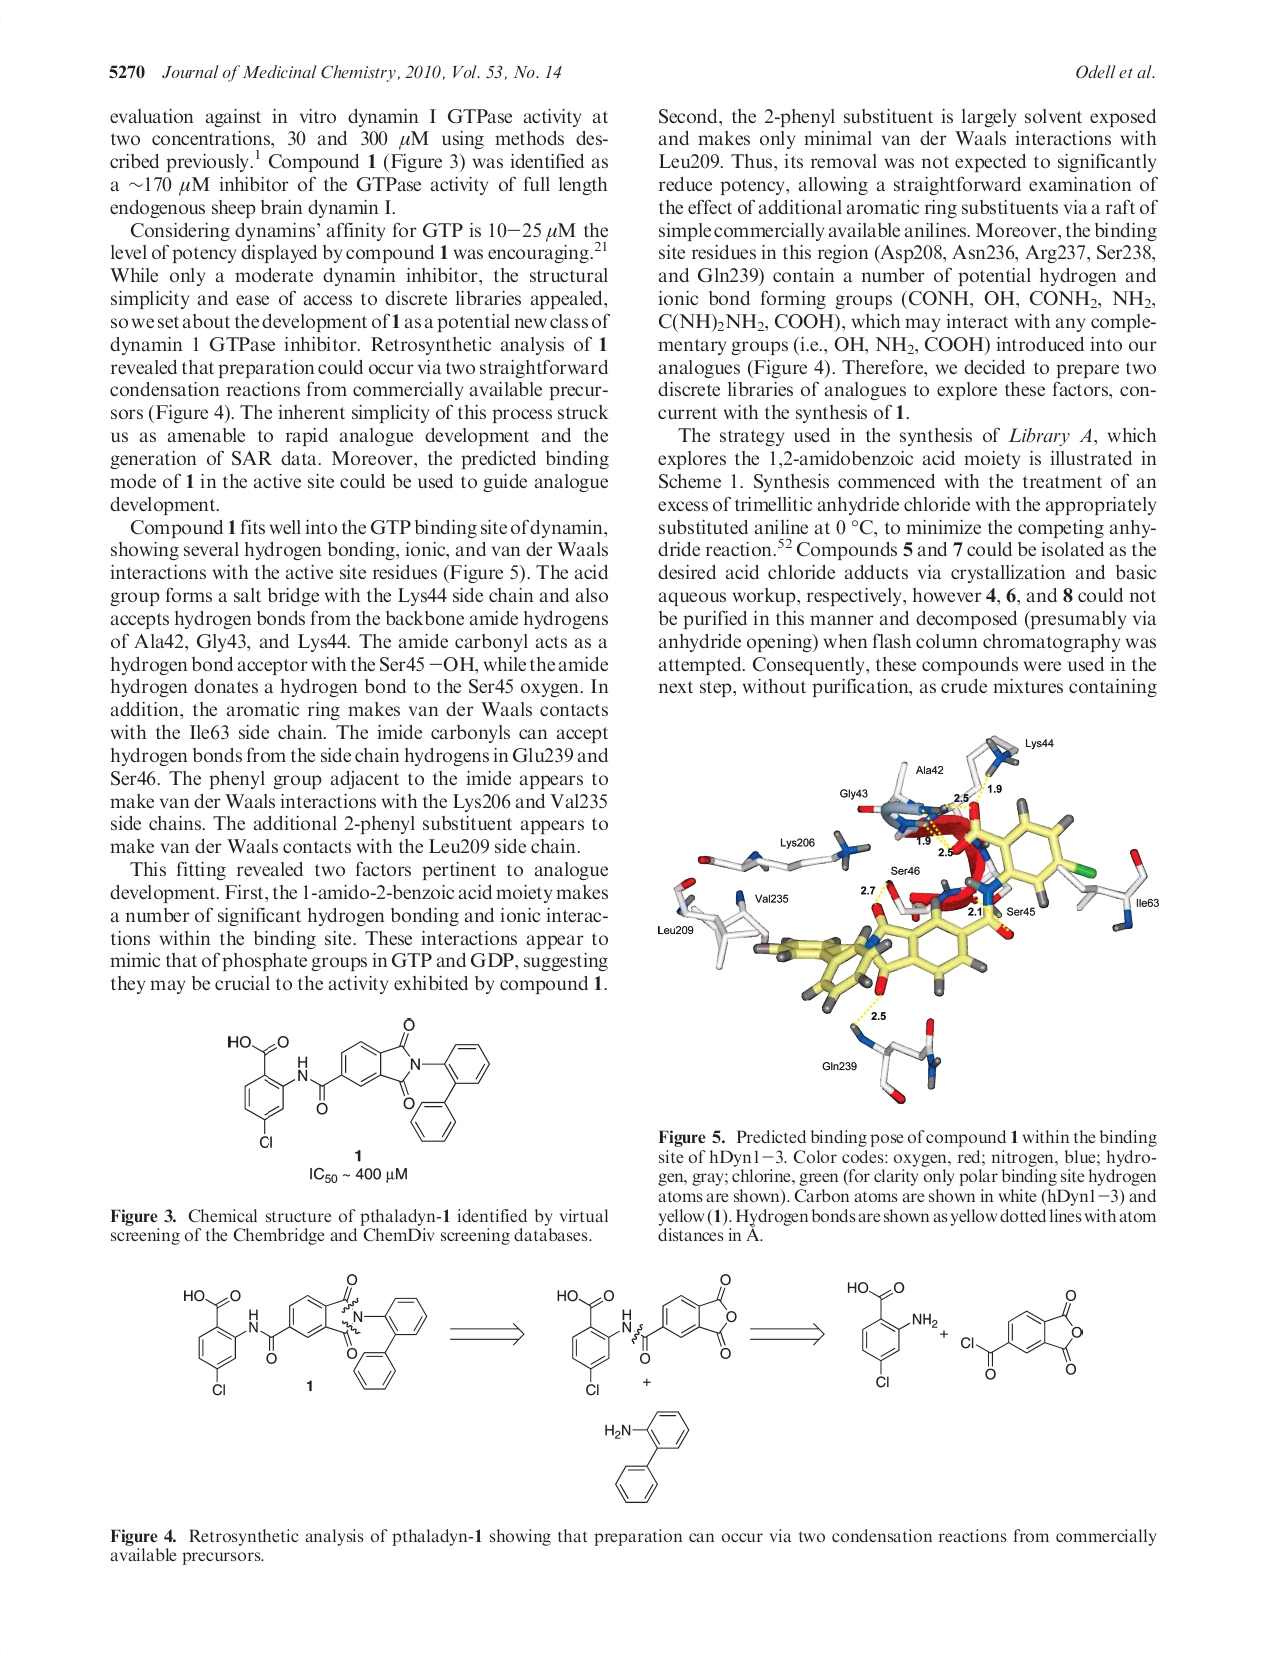exist_molecular: (227, 1015, 489, 1149), (184, 1273, 430, 1395), (556, 1271, 741, 1395), (961, 1285, 1082, 1380), (844, 1275, 938, 1388), (605, 1406, 692, 1505)
